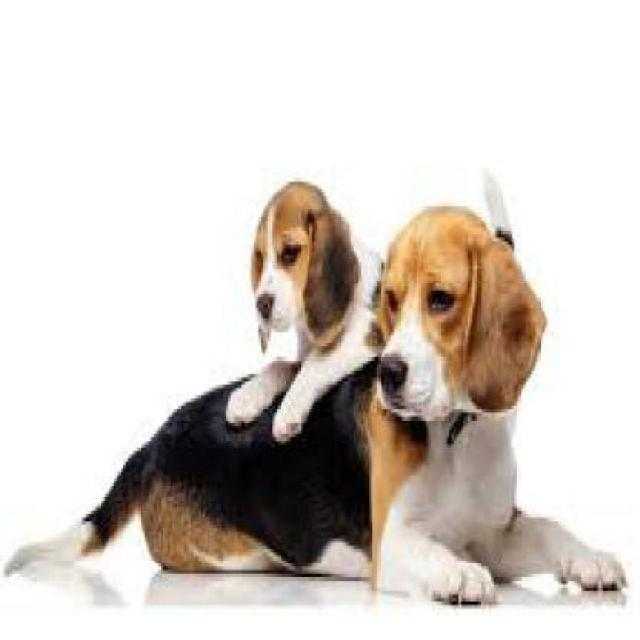Dog: (1, 203, 628, 612), (228, 175, 546, 438)
